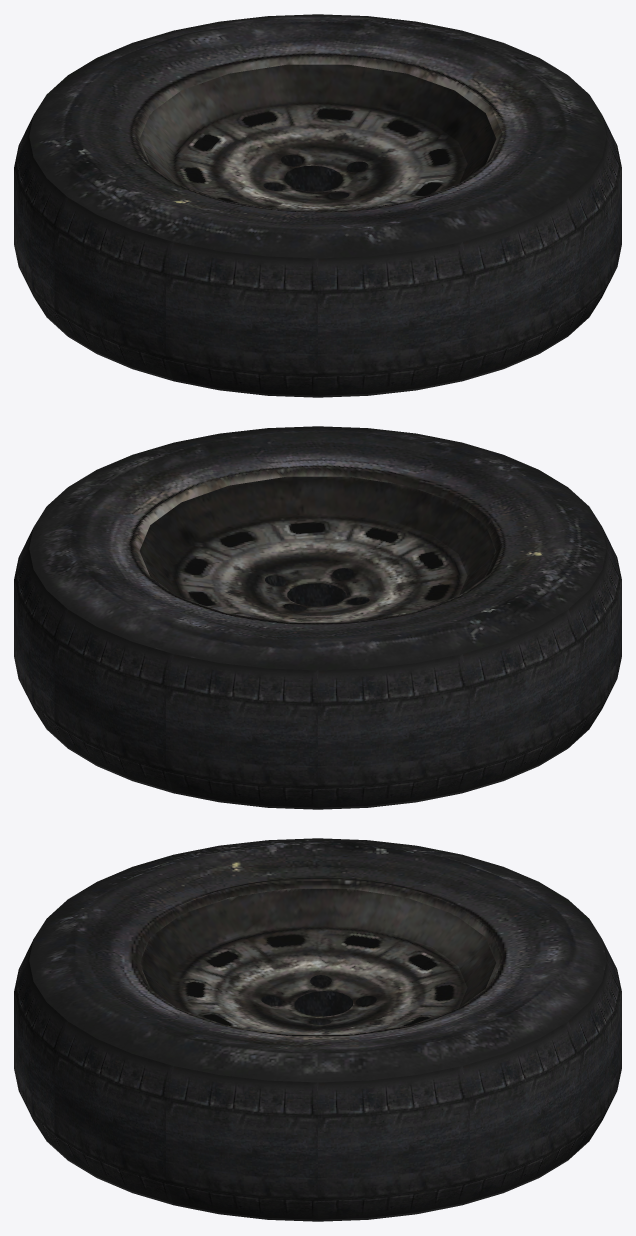
File: wheel.FBX
3 views of the same model, one above another, from view 1: azimuth 30°, elevation 25°; view 2: azimuth 150°, elevation 25°; view 3: azimuth 270°, elevation 25° (orthographic).
Visible parts, largest first — view 1: wheel; view 2: wheel; view 3: wheel.
Boxes of the visible parts, x1=… form: wheel: x1=14, y1=14, x2=621, y2=397; wheel: x1=14, y1=426, x2=621, y2=809; wheel: x1=14, y1=838, x2=621, y2=1221.
Size of the model in its own units: 0.5118 by 0.1397 by 0.5118.
1 material, 1 textured.
